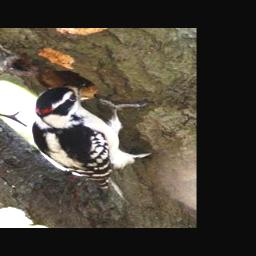Woodpecker: (32, 81, 152, 196)
